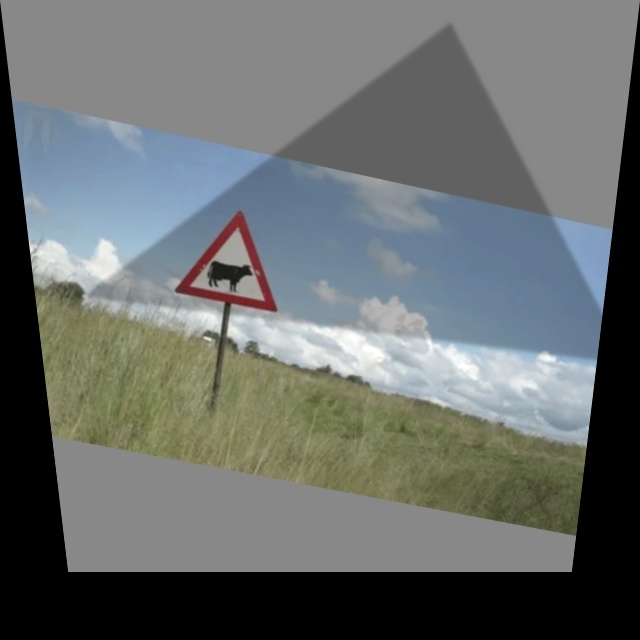Cattle: (173, 203, 291, 315)
